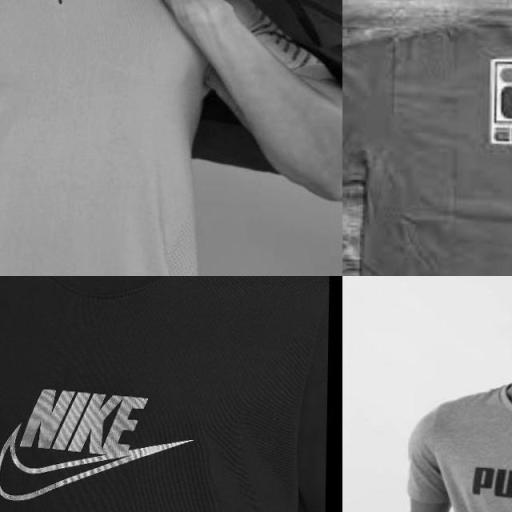Fila: (469, 54, 512, 152)
Nike: (0, 361, 199, 512)
